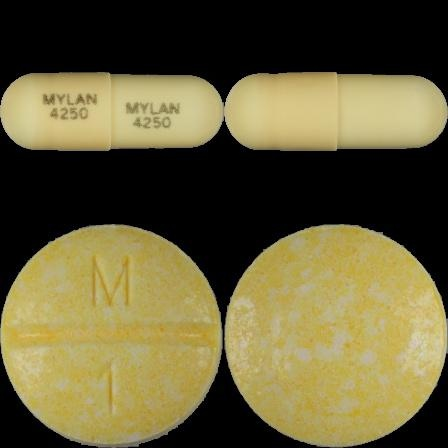50090-0278: (0, 0, 224, 224)
